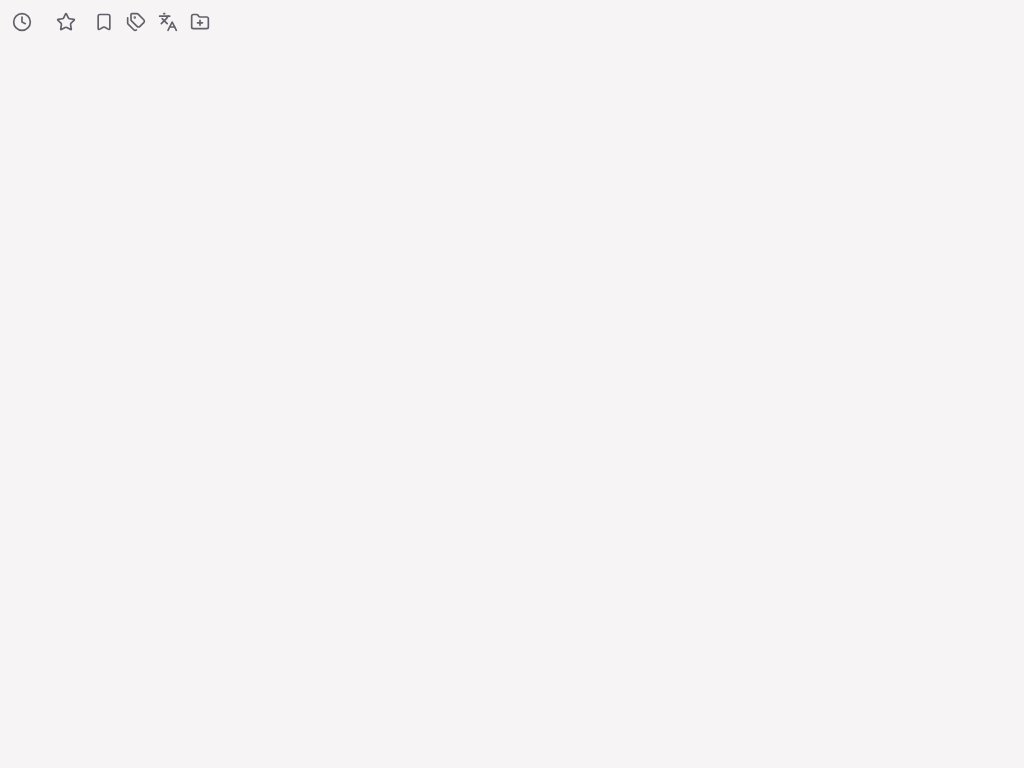
Test: EntryActionButtons 标签面板（P0-10） › 打开标签面板：既有标签勾选态来自 item tags；suggested 行标注「建议」
This screenshot has width=1024, height=768.
Click the button named "标签".
click(136, 22)  # box [120, 6, 152, 38]
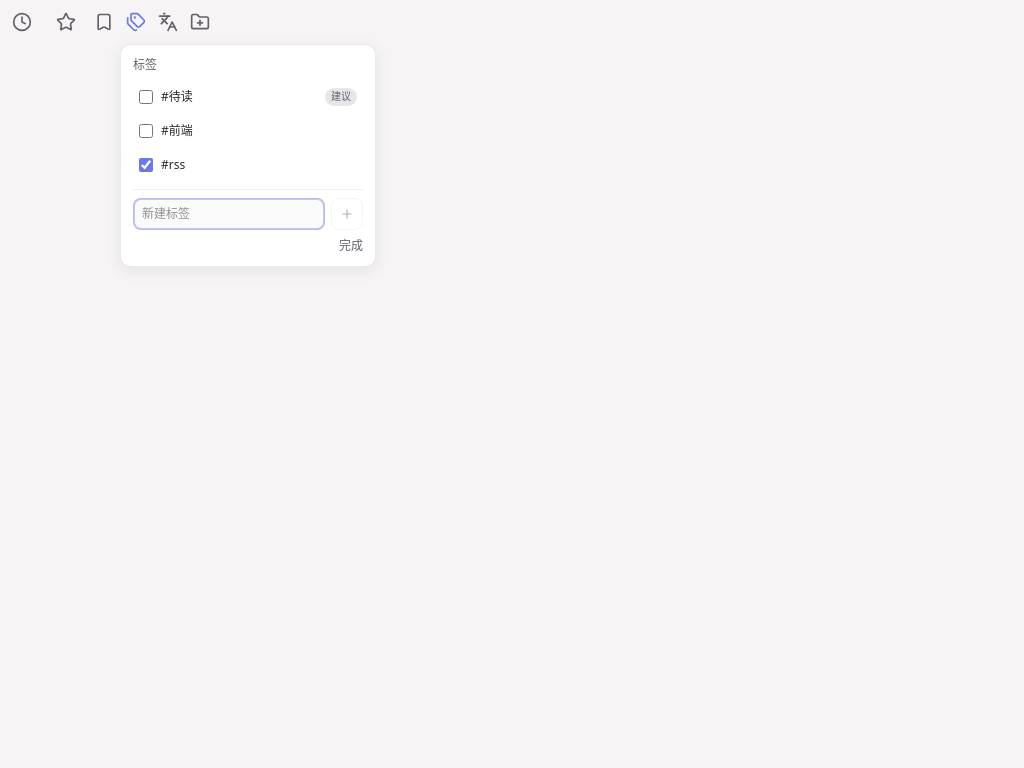
Check: the checkbox named "标签 rss" is checked, box [139, 158, 153, 172]
Check: the checkbox named "标签 前端" is not checked, box [139, 124, 153, 138]
Check: the checkbox named "标签 待读" is not checked, box [139, 90, 153, 104]
